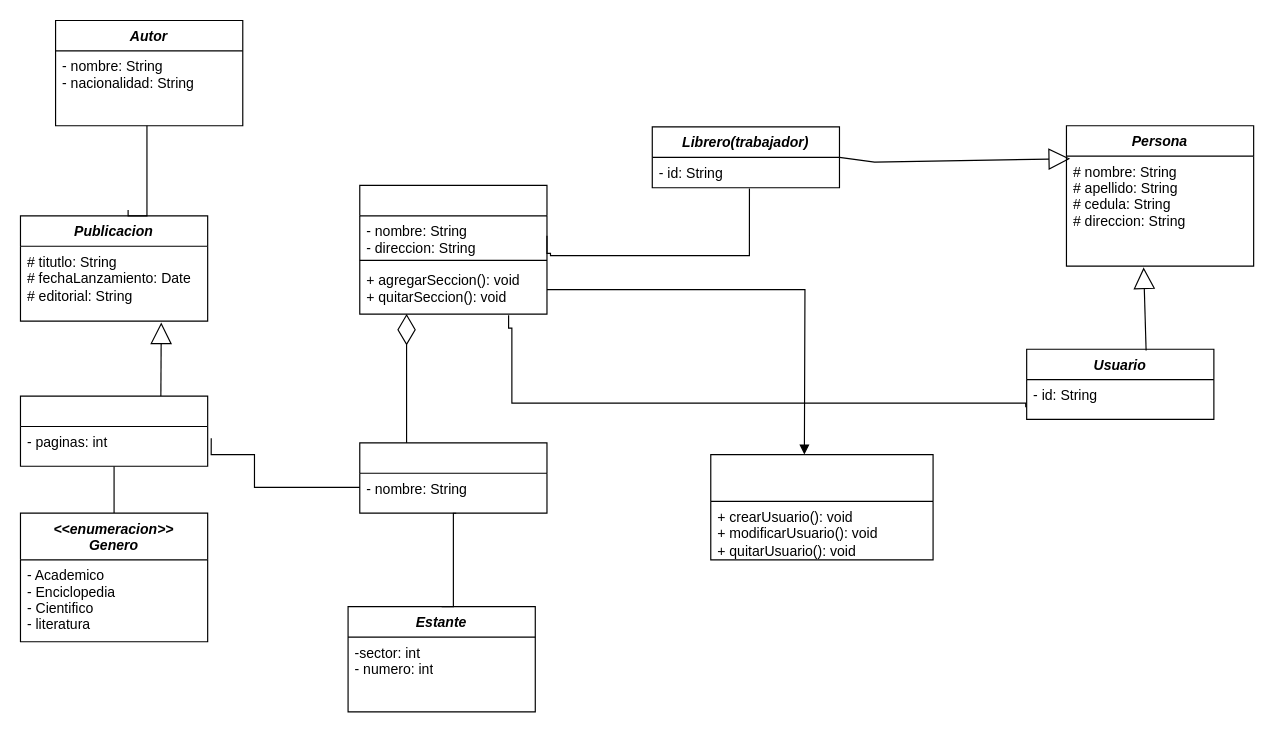
Image size: 1274x736. Some labels were removed from this diagram. The box of each missing label's shape, as (x1, y1, x2, y2) in pixels:
<<interfaz>> TareasPrincipales: (710, 453, 933, 560)
Biblioteca: (359, 184, 547, 314)
libro: (19, 395, 208, 466)
Seccion: (359, 442, 547, 513)
